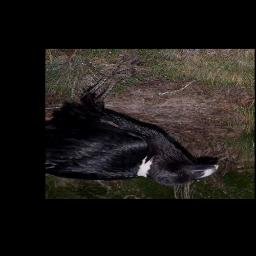Crow: (46, 54, 220, 187)
